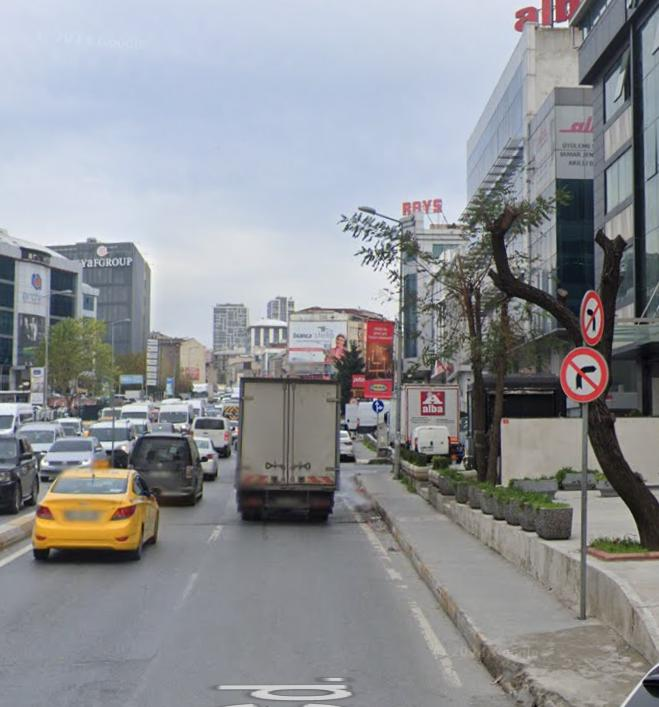leftturnsareforbidden: (582, 291, 606, 346)
rightturnsareforbidden: (561, 345, 608, 400)
